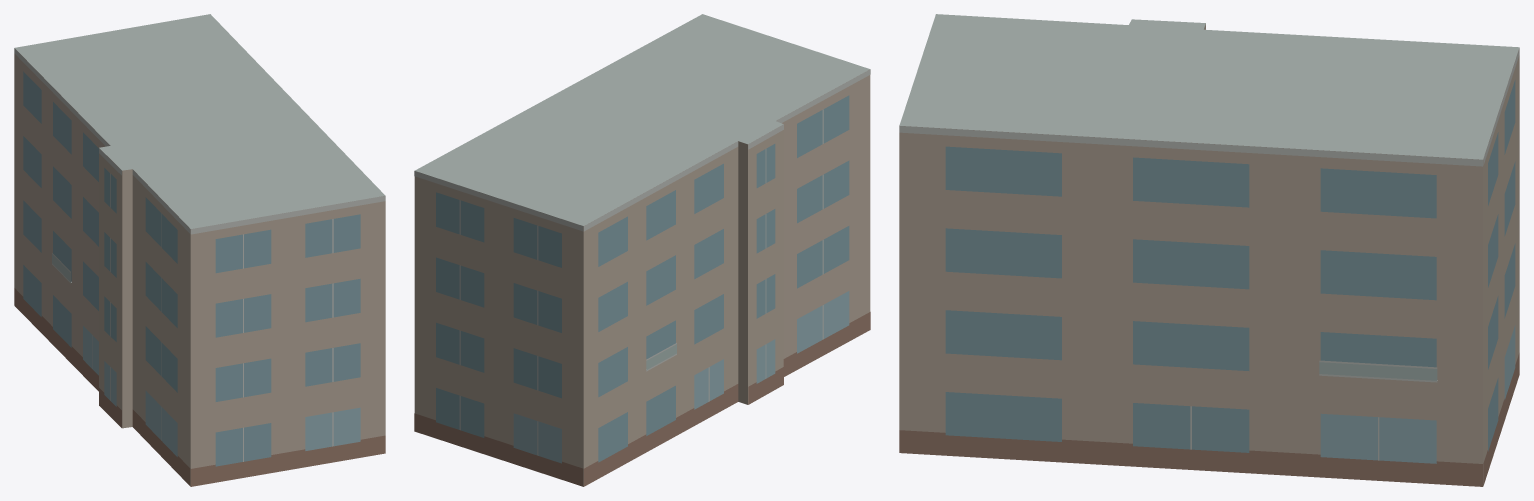
Rendered from survey-upis-32671467.glb.
3 views of the same model, side by side, from view 1: azimuth 30°, elevation 25°; view 2: azimuth 150°, elevation 25°; view 3: azimuth 270°, elevation 25° (orthographic). The views are drawn at different scales.
Parts seen in each view (by area): view 1: survey-upis-32671467.tmp; view 2: survey-upis-32671467.tmp; view 3: survey-upis-32671467.tmp.
Part boxes in pixels (x1,y1,x2,y2): survey-upis-32671467.tmp: (14,14,385,486); survey-upis-32671467.tmp: (414,14,870,486); survey-upis-32671467.tmp: (899,14,1519,486).
Size of the model in its own units: 11.09 by 11.6 by 19.94.
